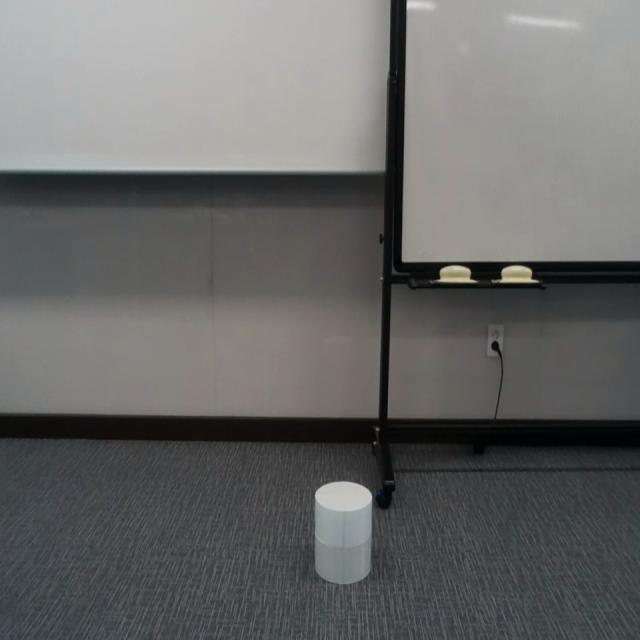cylinder: (314, 481, 372, 584)
